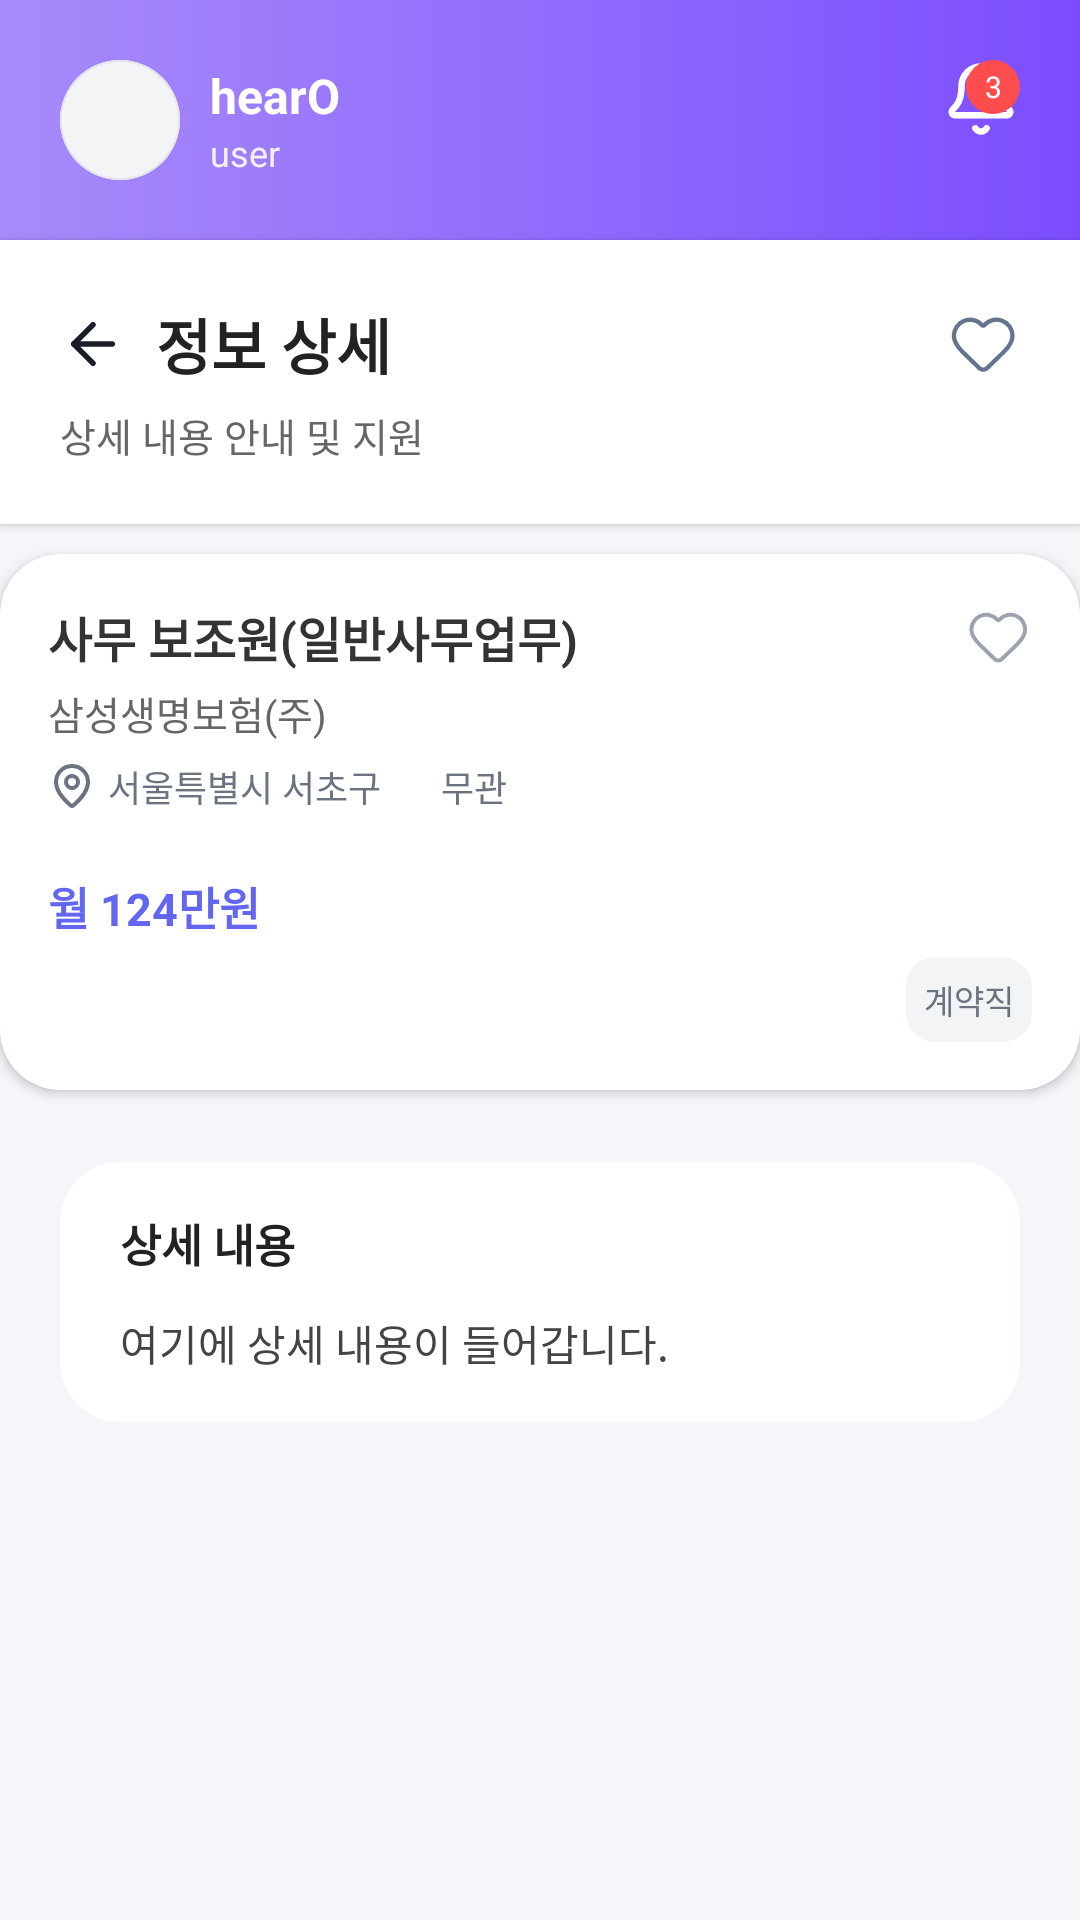

Screen size 1080×1920. Icon name, then its center in pixels as (x=x, y=y):
alarm: (x=984, y=97)
back: (x=93, y=344)
heart empty: (x=983, y=344), (x=998, y=638)
location: (x=72, y=786)
